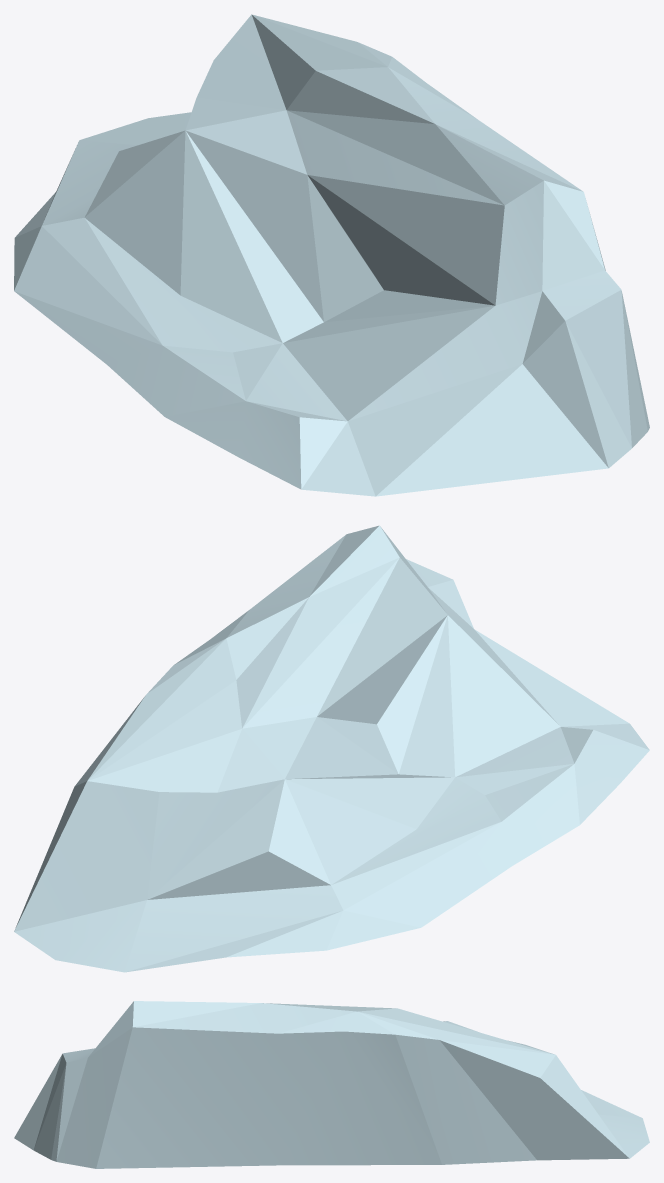
File: Parche_Nieve04.glb
3 views of the same model, one above another, from view 1: azimuth 30°, elevation 25°; view 2: azimuth 150°, elevation 25°; view 3: azimuth 270°, elevation 25° (orthographic). The views are drawn at different scales.
Visible parts, largest first — view 1: SM_Env_GrassPatch_04_Snow; view 2: SM_Env_GrassPatch_04_Snow; view 3: SM_Env_GrassPatch_04_Snow.
Part boxes in pixels (x1=…): SM_Env_GrassPatch_04_Snow: x1=14, y1=14, x2=649, y2=496; SM_Env_GrassPatch_04_Snow: x1=14, y1=525, x2=649, y2=972; SM_Env_GrassPatch_04_Snow: x1=14, y1=1001, x2=649, y2=1168.
Bounding box in the file's own units: 0.7889 × 0.4355 × 1.73.
1 material, 1 textured.
